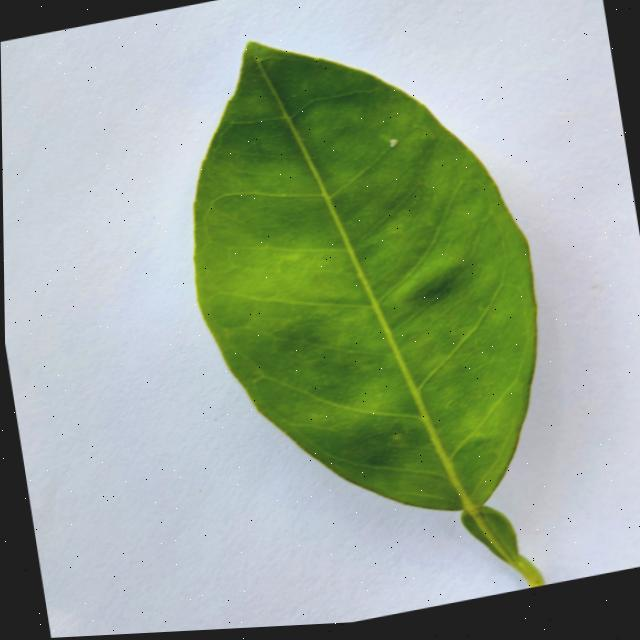greening: (195, 43, 537, 543)
